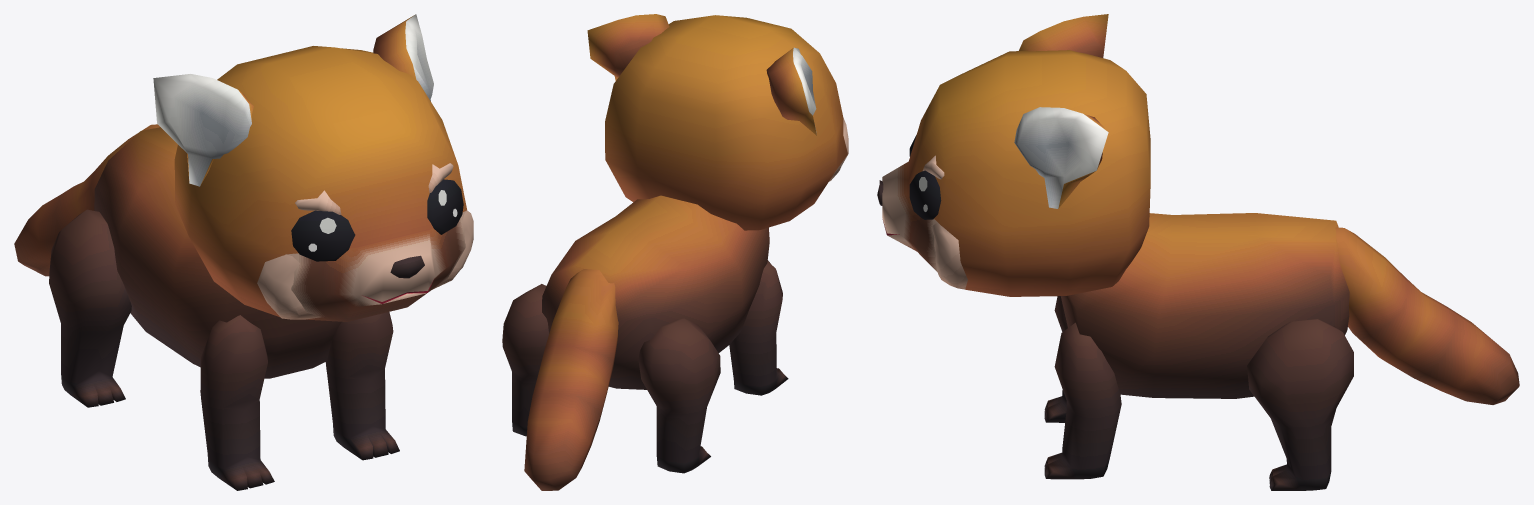
Rendered from redpanda.SD.glb.
3 renders of one model, left to right at view 1: azimuth 30°, elevation 25°; view 2: azimuth 150°, elevation 25°; view 3: azimuth 270°, elevation 25°, orthographic. The views are drawn at different scales.
Parts seen in each view (by area): view 1: RedPanda.SD; view 2: RedPanda.SD; view 3: RedPanda.SD.
Part boxes in pixels (box(x1,y1,x2,y2)): RedPanda.SD: box(14, 14, 473, 490); RedPanda.SD: box(502, 14, 848, 490); RedPanda.SD: box(877, 14, 1519, 490).
Size of the model in its own units: 2.54 by 3.7 by 5.71.
Materials: 1 (1 with a texture image).
